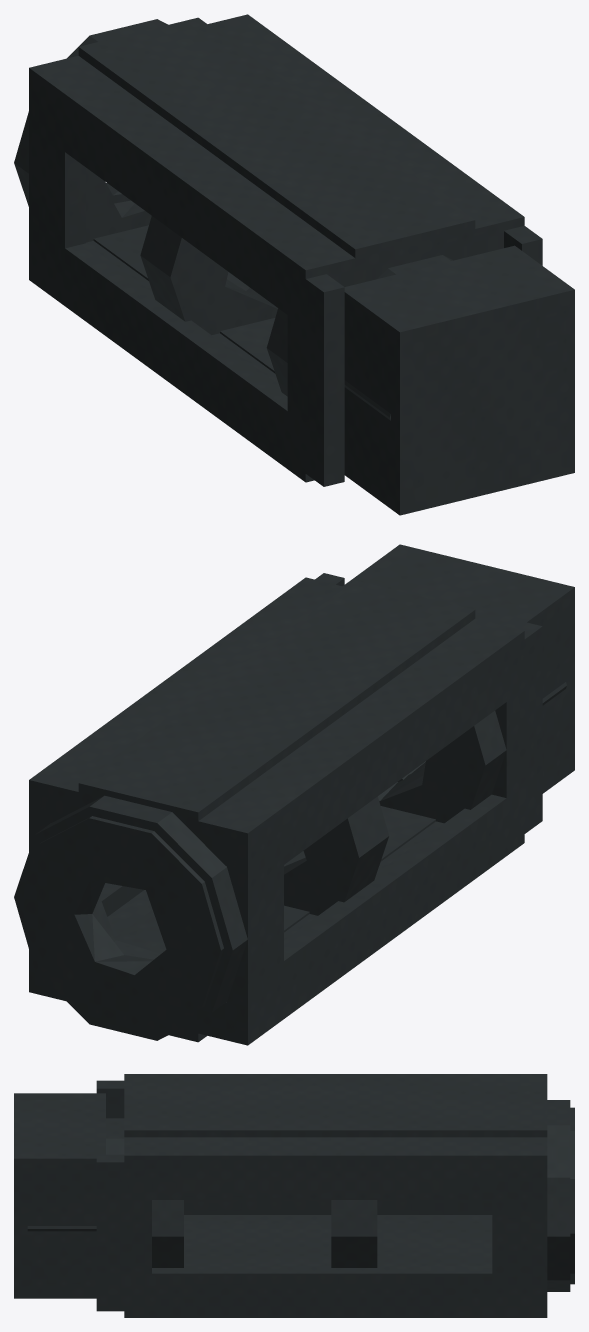
File: ar_brake.glb
3 renders of one model, top to bottom at view 1: azimuth 30°, elevation 25°; view 2: azimuth 150°, elevation 25°; view 3: azimuth 270°, elevation 25°, orthographic. The views are drawn at different scales.
Parts seen in each view (by area): view 1: muzzle__ar_brake_LOD1_RAID_Secondary_Original_steel, muzzle__ar_brake_LOD0_RAID_Secondary_Original_steel; view 2: muzzle__ar_brake_LOD1_RAID_Secondary_Original_steel, muzzle__ar_brake_LOD0_RAID_Secondary_Original_steel; view 3: muzzle__ar_brake_LOD1_RAID_Secondary_Original_steel, muzzle__ar_brake_LOD0_RAID_Secondary_Original_steel.
Boxes of the visible parts, <box> form: muzzle__ar_brake_LOD1_RAID_Secondary_Original_steel: <box>29,14,574,515</box>; muzzle__ar_brake_LOD0_RAID_Secondary_Original_steel: <box>14,17,475,420</box>; muzzle__ar_brake_LOD1_RAID_Secondary_Original_steel: <box>29,544,574,1045</box>; muzzle__ar_brake_LOD0_RAID_Secondary_Original_steel: <box>14,580,566,1042</box>; muzzle__ar_brake_LOD1_RAID_Secondary_Original_steel: <box>14,1074,547,1317</box>; muzzle__ar_brake_LOD0_RAID_Secondary_Original_steel: <box>27,1085,574,1291</box>.
Bounding box in the file's own units: 0.042 × 0.0422 × 0.122.
1 material, 1 textured.
